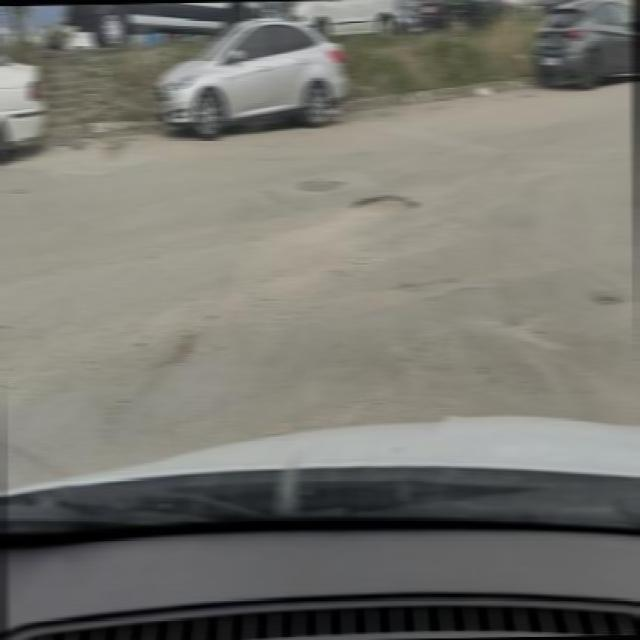Pothole: (347, 193, 424, 216)
